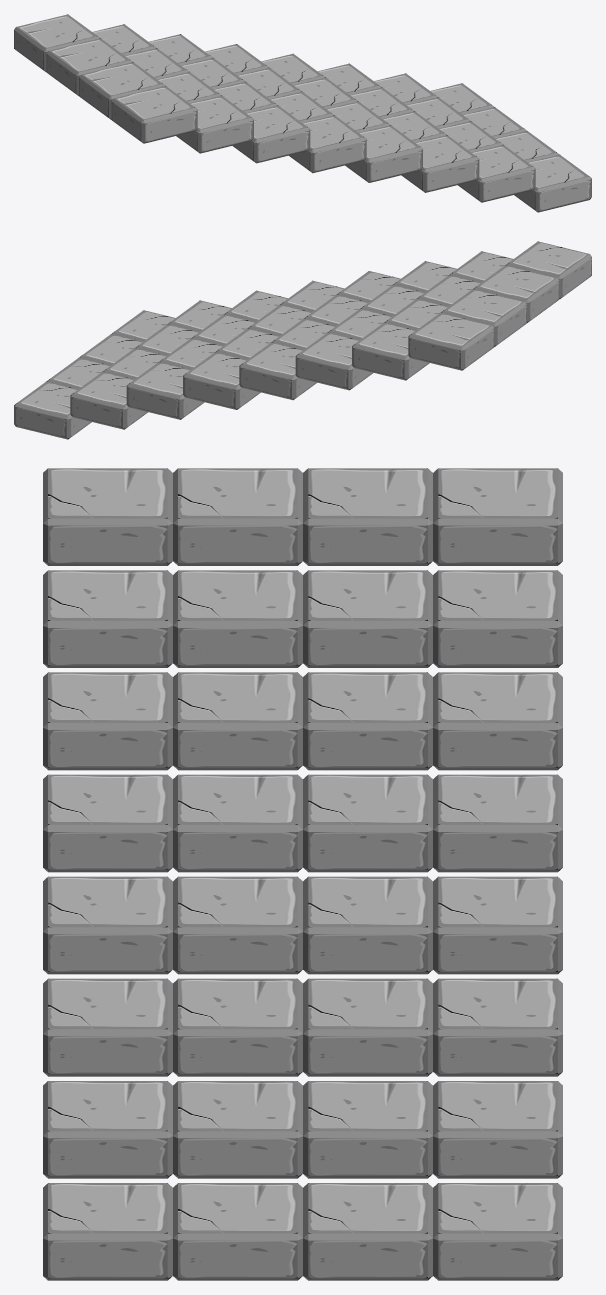
File: M_Scalinata.fbx
The picture shows the model from 3 angles, top to bottom: view 1: azimuth 30°, elevation 25°; view 2: azimuth 150°, elevation 25°; view 3: azimuth 270°, elevation 25°; orthographic projection. The views are drawn at different scales.
Parts seen in each view (by area): view 1: M_Scale; view 2: M_Scale; view 3: M_Scale.
Boxes of the visible parts, <box> form: M_Scale: <box>14,14,591,212</box>; M_Scale: <box>14,241,591,439</box>; M_Scale: <box>43,468,562,1280</box>.
Bounding box in the file's own units: 20 × 8 × 10.
